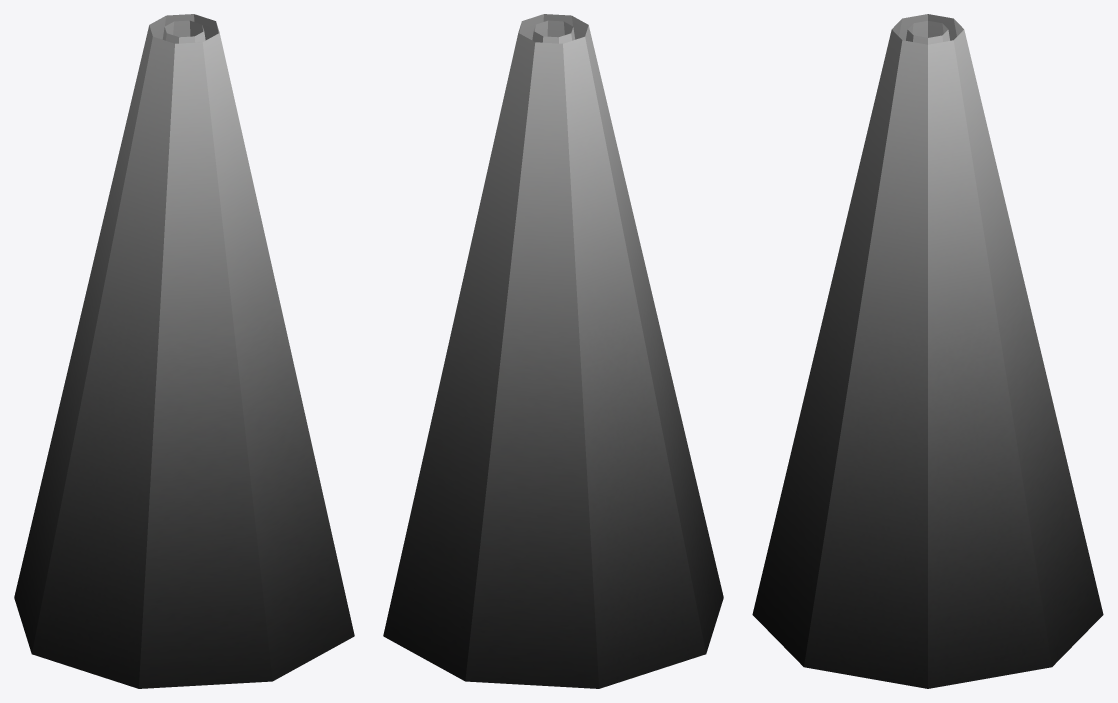
The model's file is light.fbx.
The picture shows the model from 3 angles, left to right: view 1: azimuth 30°, elevation 25°; view 2: azimuth 150°, elevation 25°; view 3: azimuth 270°, elevation 25°; orthographic projection.
Visible parts, largest first — view 1: Cylinder.243; view 2: Cylinder.243; view 3: Cylinder.243.
Part boxes in pixels (x1,y1,x2,y2): Cylinder.243: (14,14,354,688); Cylinder.243: (383,14,723,688); Cylinder.243: (752,14,1103,688).
Bounding box in the file's own units: 200 × 368 × 200.
